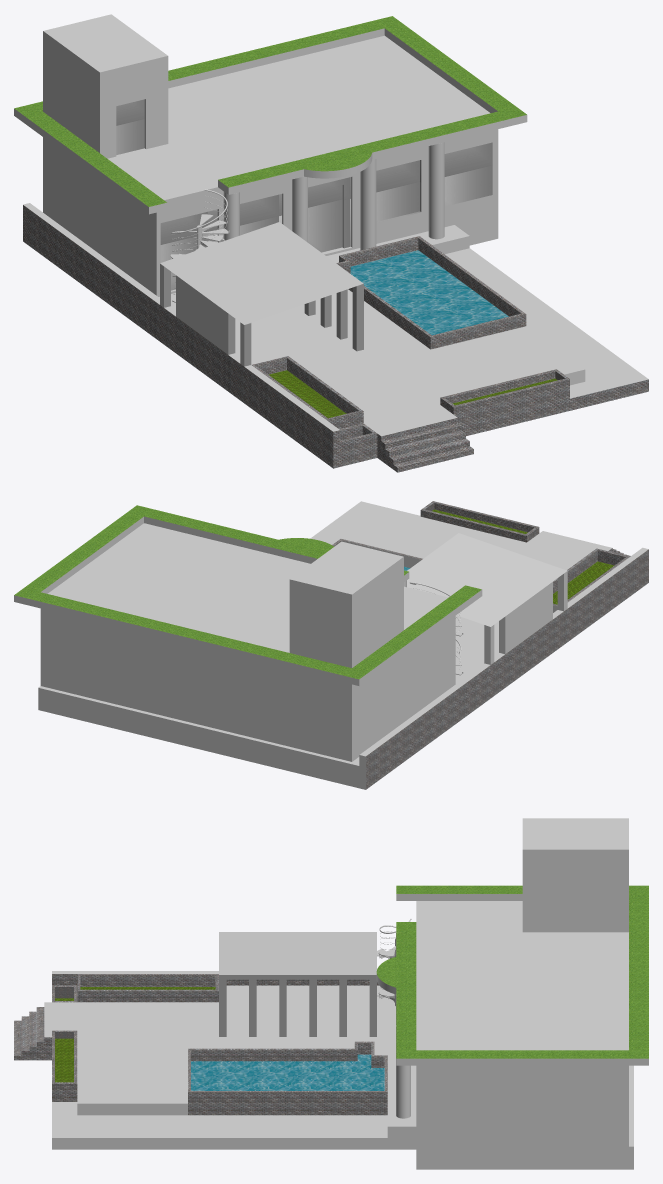
The model's file is villa1.glb.
The picture shows the model from 3 angles, top to bottom: view 1: azimuth 30°, elevation 25°; view 2: azimuth 150°, elevation 25°; view 3: azimuth 270°, elevation 25°; orthographic projection. The views are drawn at different scales.
Visible parts, largest first — view 1: _(Loose Entity); view 2: _(Loose Entity); view 3: _(Loose Entity).
Part boxes in pixels (x1,y1,x2,y2): _(Loose Entity): (14, 14, 648, 472); _(Loose Entity): (14, 501, 648, 789); _(Loose Entity): (14, 818, 648, 1169).
Bounding box in the file's own units: 16.19 × 8.5 × 25.1.
8 materials, 6 textured.
